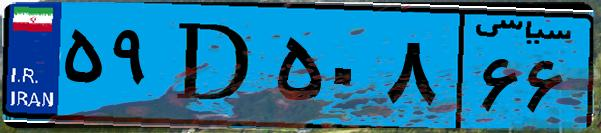0: (330, 28, 385, 110)
5: (270, 28, 330, 110), (57, 26, 110, 100)
6: (475, 38, 525, 113), (525, 38, 570, 115)
8: (385, 28, 445, 110)
9: (110, 28, 158, 98)
D: (158, 12, 270, 120)
